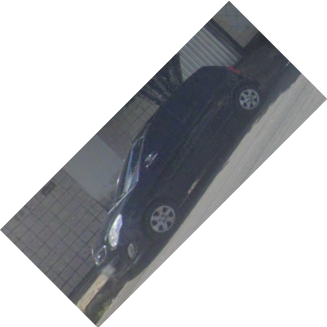car: (91, 66, 263, 276)
